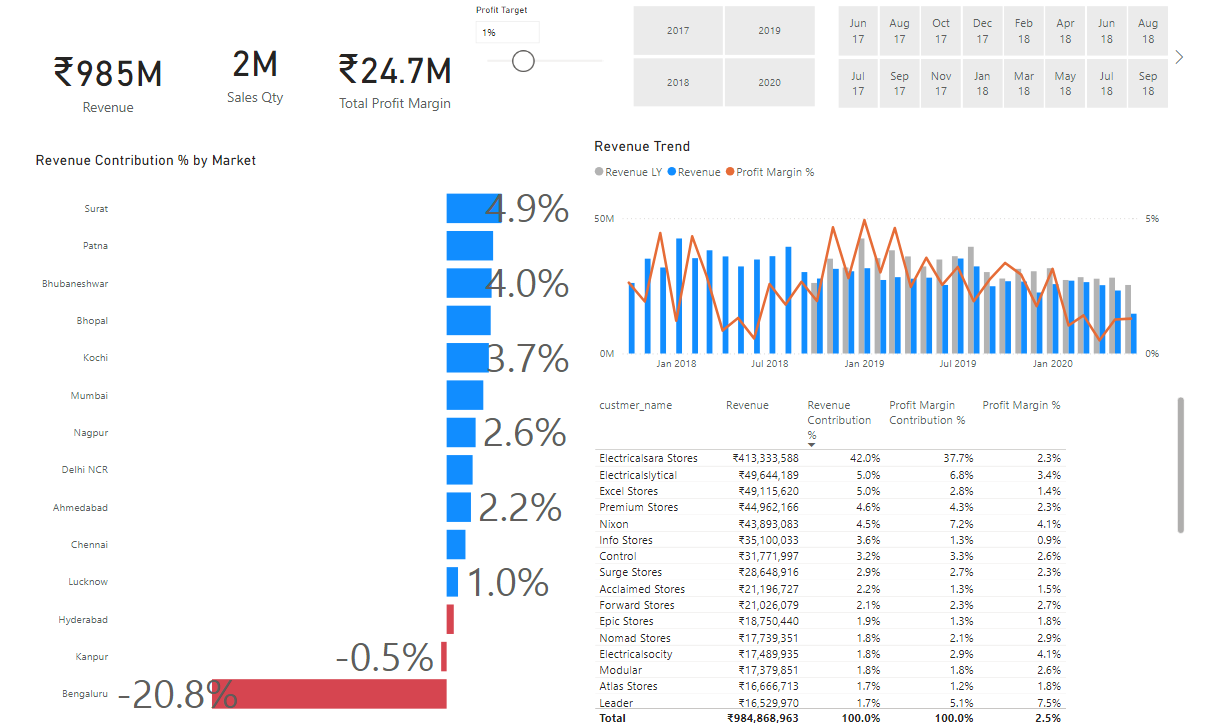

What the dashboard file says about the page in this screenshot:
{"tool":"powerbi","page":{"name":"Profit Analysis","canvas":[1350,850],"ordinal":1},"visuals":[{"type":"card","fields":{"Values":["BaseMeasures (2).Revenue"]},"box":[0,0,179.6,184.8],"z":0},{"type":"card","fields":{"Values":["BaseMeasures (2).Sales Qty"]},"box":[179.6,0,164.1,193],"z":1000},{"type":"barChart","title":"Profit % by market","fields":{"Y":["BaseMeasures (2).Profit Margin %"],"Category":["sales markets.markets_name"]},"box":[464.5,184.8,230.2,664.8],"z":2000},{"type":"barChart","title":"Profit Contribution % by Market","fields":{"Y":["BaseMeasures (2).Profit Margin Contribution %"],"Category":["sales markets.markets_name"]},"box":[221.9,185.8,208.5,659.6],"z":3000},{"type":"slicer","fields":{"Values":["sales date.year"]},"box":[483.6,0,349.4,157.4],"z":4000},{"type":"slicer","fields":{"Values":["sales date.cy_date"]},"box":[812.8,0,537,157.4],"z":5000},{"type":"tableEx","title":"Top 5 Customers","fields":{"Values":["sales customers.custmer_name","BaseMeasures (2).Revenue","BaseMeasures (2).Revenue Contribution %","BaseMeasures (2).Profit Margin Contribution %","BaseMeasures (2).Profit Margin %"]},"box":[701.9,454.2,648.3,395.4],"z":6000},{"type":"lineChart","title":"Revenue Trend","fields":{"Y":["BaseMeasures (2).Revenue"],"Category":["sales date.cy_date"]},"box":[701.6,176.1,622.2,267.1],"z":7000},{"type":"card","fields":{"Values":["BaseMeasures (2).Total Profit Margin"]},"box":[349.9,0,161,176.5],"z":8000},{"type":"barChart","title":"Revenue Contribution % by Market","fields":{"Y":["BaseMeasures (2).Revenue Contribution %"],"Category":["sales markets.markets_name"]},"box":[0,185.8,219.9,654.5],"z":9000}]}

Visuals, with their boxes on the page's 1350x850 design canvas (x1, y1, x2, y2). These are canvas units, not pixel positions in the 1231x726 screenshot, which may show the page scaled, cropped or inside an application window:
card - BaseMeasures (2).Revenue: <box>0,0,180,185</box>
card - BaseMeasures (2).Sales Qty: <box>180,0,344,193</box>
"Profit % by market" barChart: <box>464,185,695,850</box>
"Profit Contribution % by Market" barChart: <box>222,186,430,845</box>
slicer - sales date.year: <box>484,0,833,157</box>
slicer - sales date.cy_date: <box>813,0,1350,157</box>
"Top 5 Customers" tableEx: <box>702,454,1350,850</box>
"Revenue Trend" lineChart: <box>702,176,1324,443</box>
card - BaseMeasures (2).Total Profit Margin: <box>350,0,511,176</box>
"Revenue Contribution % by Market" barChart: <box>0,186,220,840</box>
